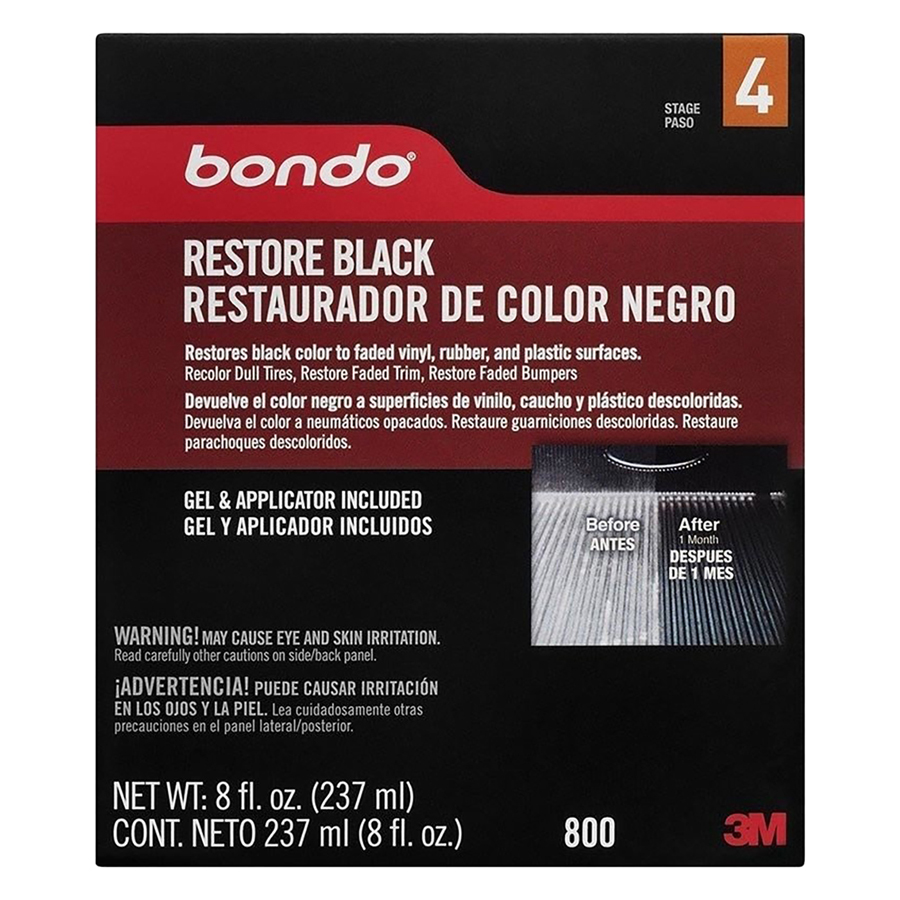3M: (714, 804, 795, 854)
